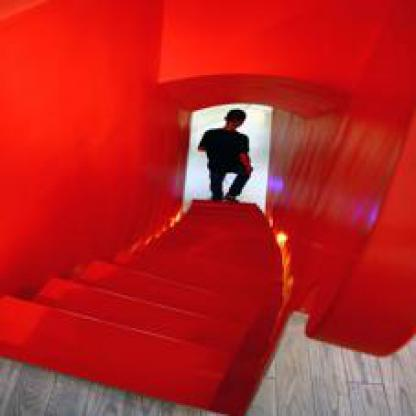stair_down: (7, 206, 292, 358)
